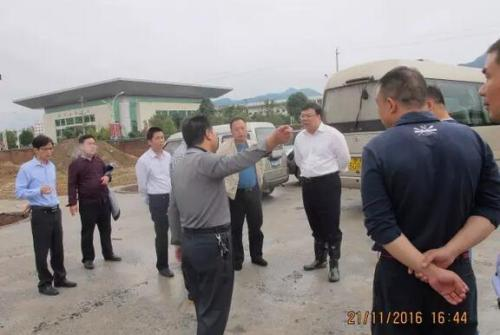boots: (328, 259, 340, 281), (304, 258, 327, 269), (38, 283, 59, 294), (54, 278, 77, 287), (158, 266, 174, 276), (252, 256, 267, 266), (83, 259, 94, 268), (105, 254, 121, 260), (232, 260, 242, 269)
person: (360, 65, 500, 335), (167, 115, 293, 335), (293, 101, 351, 281), (15, 134, 77, 295), (216, 116, 268, 270), (67, 134, 122, 269), (135, 127, 175, 276), (479, 39, 500, 124)
